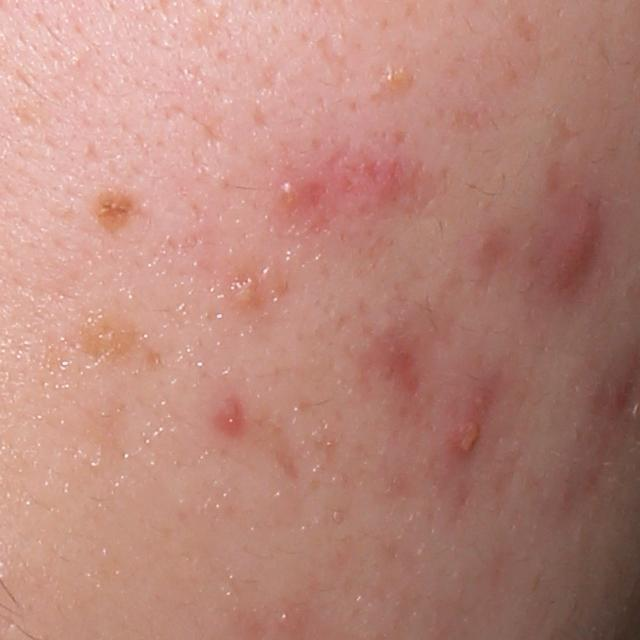atrophic_scar: (305, 29, 357, 84), (254, 67, 282, 95), (249, 105, 277, 131)
comedo: (378, 66, 421, 99)
melasma: (68, 311, 125, 370), (81, 188, 138, 239)
papule: (536, 201, 618, 302), (216, 401, 253, 438)
pustule: (449, 407, 489, 460)
